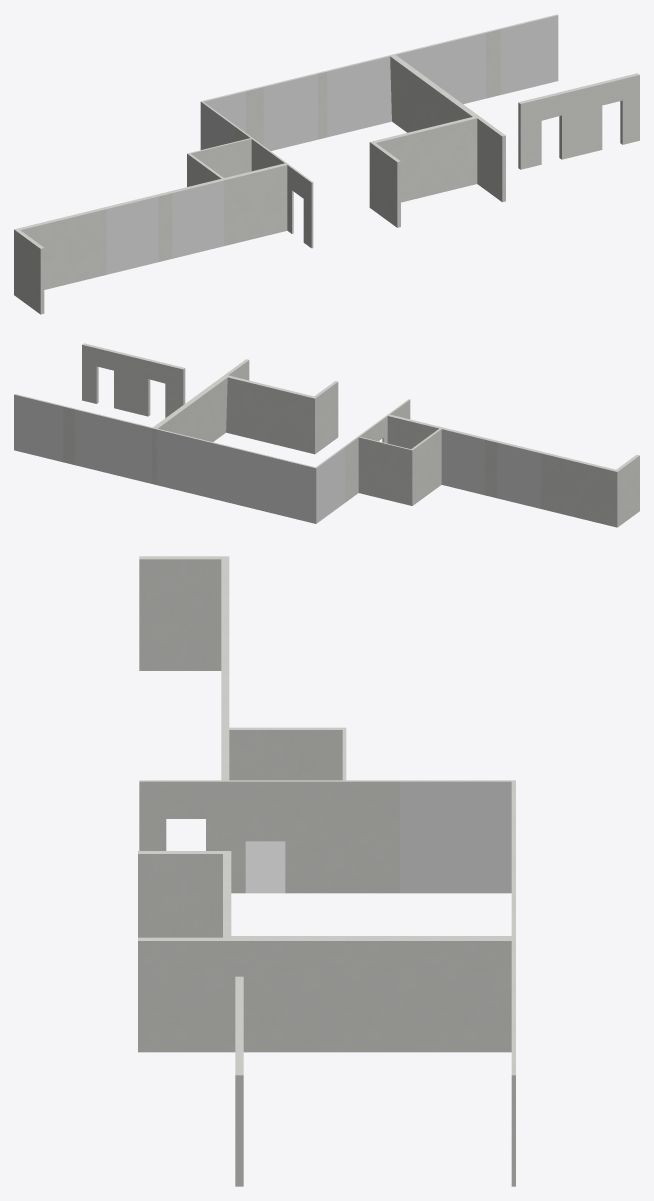
File: lamur2.fbx
The picture shows the model from 3 angles, top to bottom: view 1: azimuth 30°, elevation 25°; view 2: azimuth 150°, elevation 25°; view 3: azimuth 270°, elevation 25°; orthographic projection. The views are drawn at different scales.
Parts seen in each view (by area): view 1: Cube.004, Cube.047; view 2: Cube.004, Cube.047; view 3: Cube.004, Sol.002, Cube.047.
Boxes of the visible parts, x1=… form: Cube.004: x1=14, y1=14, x2=558, y2=314; Cube.047: x1=518, y1=73, x2=639, y2=169; Cube.004: x1=14, y1=359, x2=639, y2=527; Cube.047: x1=82, y1=343, x2=185, y2=417; Cube.004: x1=138, y1=556, x2=515, y2=1186; Sol.002: x1=245, y1=841, x2=285, y2=893; Cube.047: x1=235, y1=976, x2=243, y2=1186.
Size of the model in its own units: 2997 by 300 by 922.
